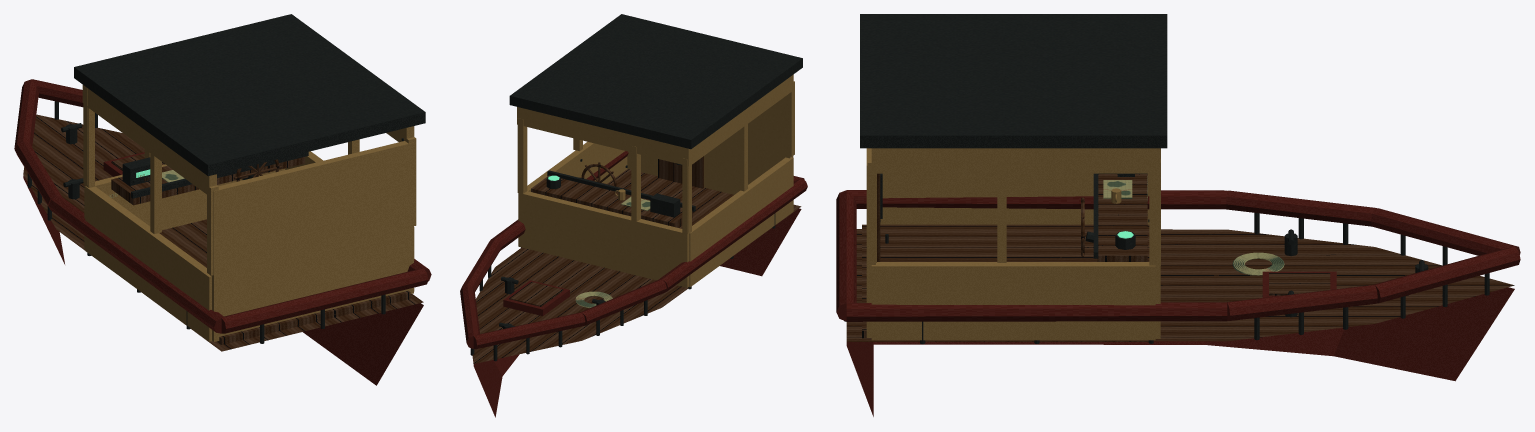
The model's file is night_crossing.glb.
The picture shows the model from 3 angles, left to right: view 1: azimuth 30°, elevation 25°; view 2: azimuth 150°, elevation 25°; view 3: azimuth 270°, elevation 25°; orthographic projection. The views are drawn at different scales.
Visible parts, largest first — view 1: Cabin_sea_ochre_paint, Cabin_sea_iron, Cabin_sea_oxblood, Cabin_sea_teak; view 2: Cabin_sea_ochre_paint, Cabin_sea_iron, Cabin_sea_teak, Cabin_sea_oxblood, Cabin_sea_chart; view 3: Cabin_sea_iron, Cabin_sea_oxblood, Cabin_sea_ochre_paint, Cabin_sea_teak, Cabin_sea_chart.
Boxes of the visible parts, x1,y1,x2,y2 form: Cabin_sea_ochre_paint: [82, 85, 416, 341]; Cabin_sea_iron: [27, 14, 425, 343]; Cabin_sea_oxblood: [14, 79, 431, 385]; Cabin_sea_teak: [23, 114, 423, 351]; Cabin_sea_ochre_paint: [517, 74, 794, 287]; Cabin_sea_iron: [470, 14, 802, 361]; Cabin_sea_teak: [472, 156, 801, 363]; Cabin_sea_oxblood: [460, 151, 807, 417]; Cabin_sea_chart: [575, 197, 650, 308]; Cabin_sea_iron: [844, 14, 1489, 344]; Cabin_sea_oxblood: [836, 190, 1520, 416]; Cabin_sea_ochre_paint: [866, 148, 1160, 340]; Cabin_sea_teak: [846, 173, 1514, 341]; Cabin_sea_chart: [1103, 176, 1284, 275].
Size of the model in its own units: 3.7 by 4.35 by 8.8.
Materials: 7 (7 with a texture image).
